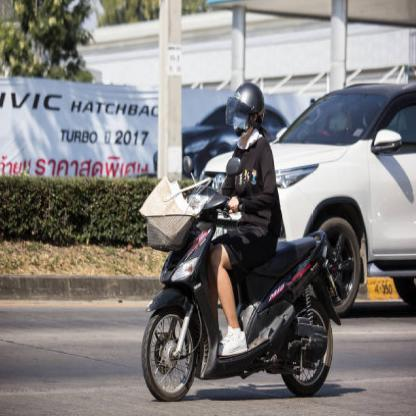Motorcycle: (129, 165, 338, 405)
